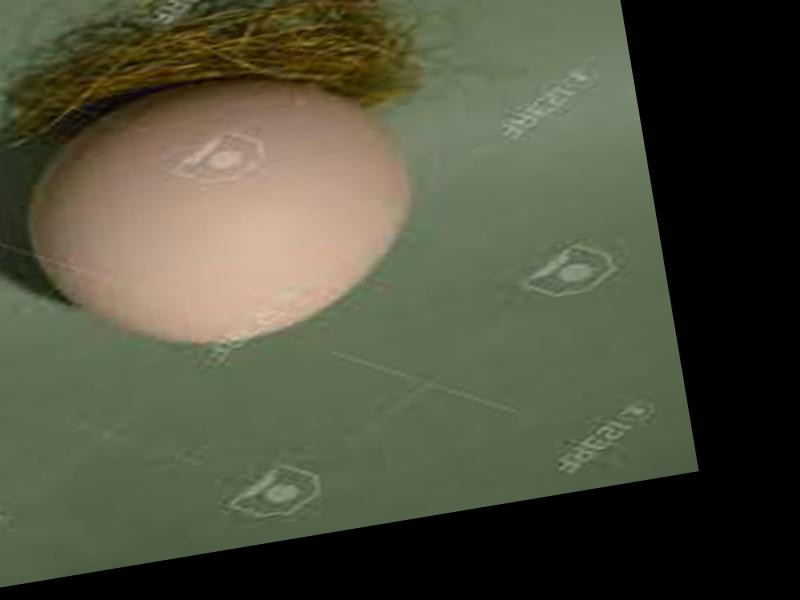Eggs: (10, 56, 428, 373)
